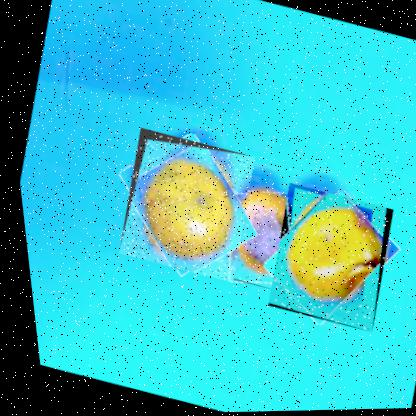orange_rotten: (100, 125, 262, 285), (248, 181, 399, 335), (200, 181, 308, 296)
